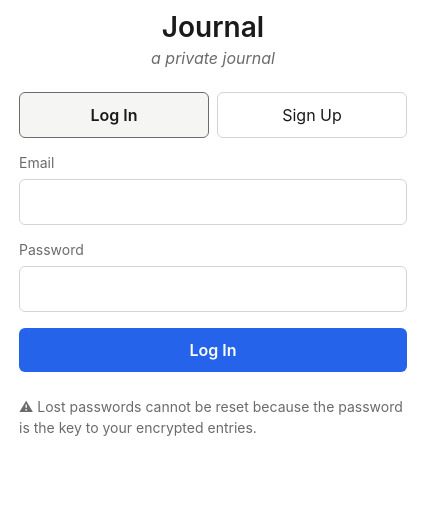
Test: AuthPage › surfaces a rejected login and holds no key
The image size is (427, 510).
Type "one@example.com" into the field labelled "Email". click: (213,202)
box: [19,179,407,225]
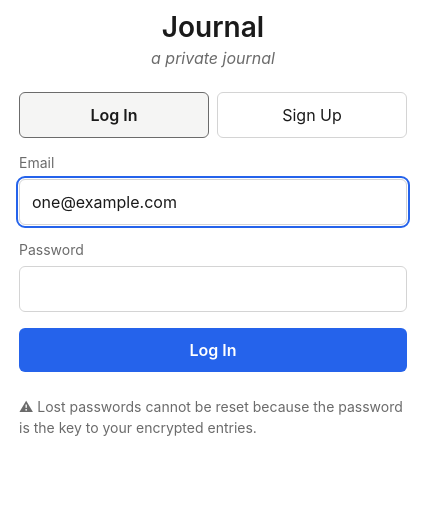
Type "correct horse battery" into the password field labelled "Password". click: (213,289)
box: [19,266,407,312]
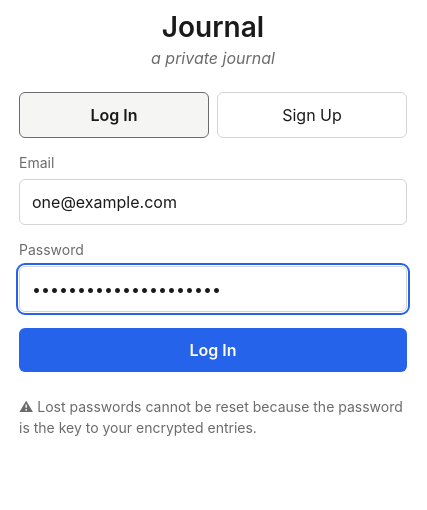
Click the button "Log In". click: (213,350)
box: [19,328,407,372]
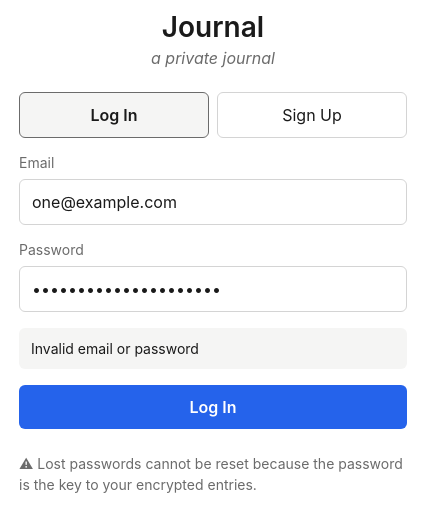
Check: the message reads "Invalid email or password", box [31,340,199,357]
